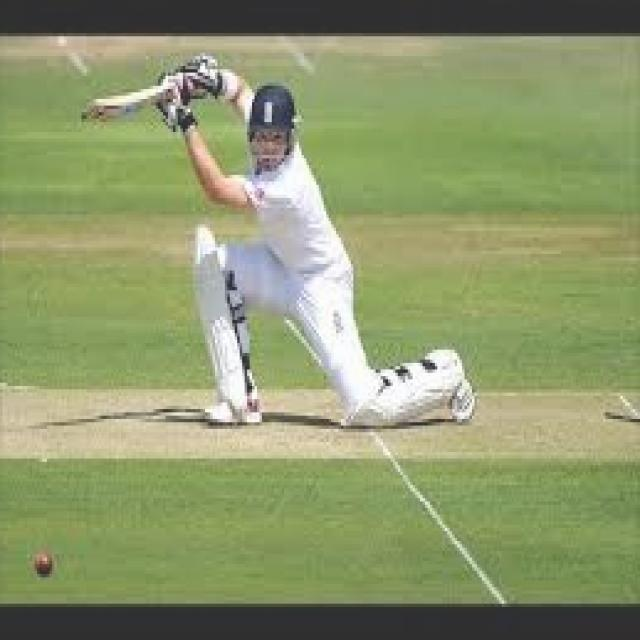bat: (76, 81, 180, 126)
toe: (80, 100, 114, 124)
